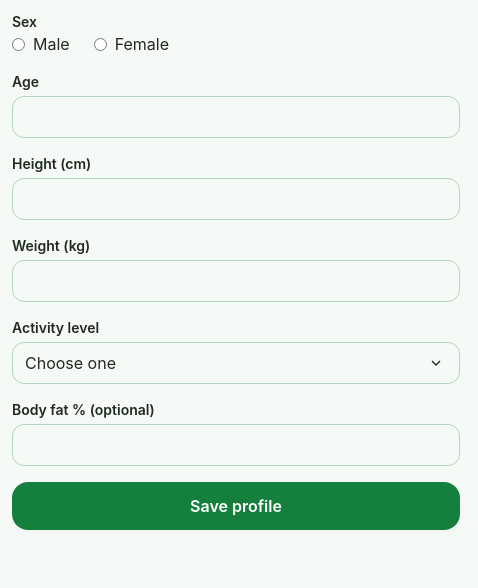
Scenario: ProfileForm › asks for age when it is left empty
Click the radio button labelled "Male". click: click(18, 44)
box: left=12, top=38, right=25, bottom=50
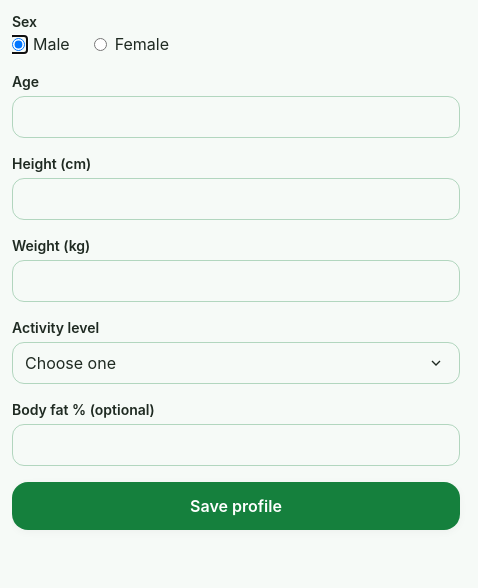
Type "30" into the number field labelled "Age". click: (236, 117)
box: left=12, top=96, right=460, bottom=138
Type "175" into the number field labelled "Height (cm)". click: (236, 199)
box: left=12, top=178, right=460, bottom=220
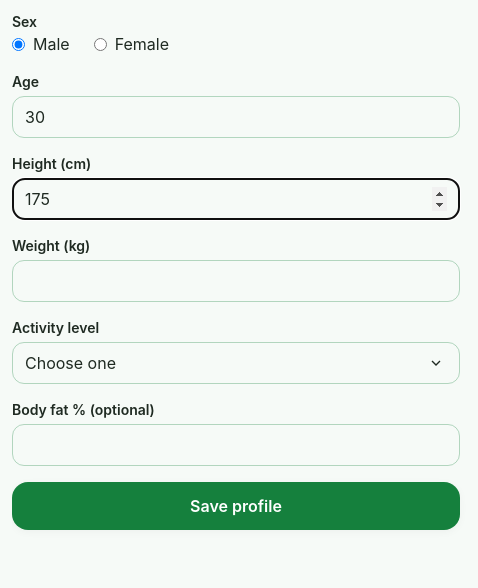
Type "80" into the number field labelled "Weight (kg)". click: (236, 281)
box: left=12, top=260, right=460, bottom=302
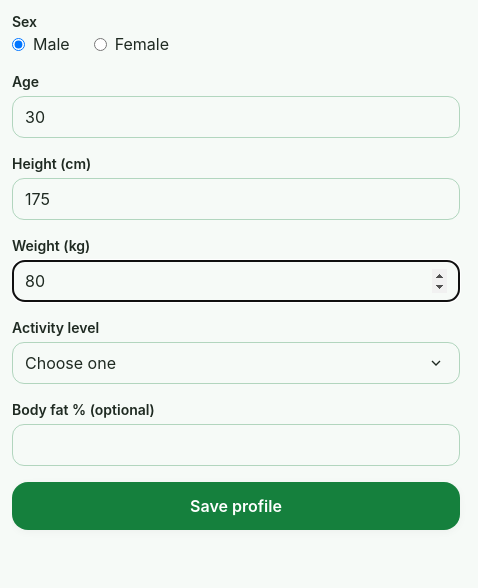
Select "Moderate" in the dropdown labelled "Activity level". click: (236, 363)
box: left=12, top=342, right=460, bottom=384
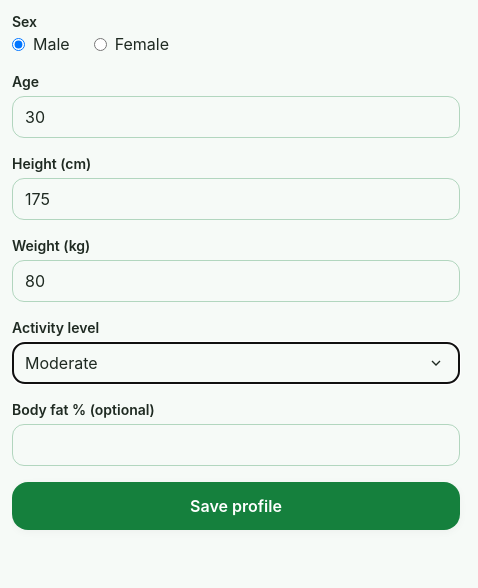
Clear the number field labelled "Age". click: (236, 117)
box: left=12, top=96, right=460, bottom=138
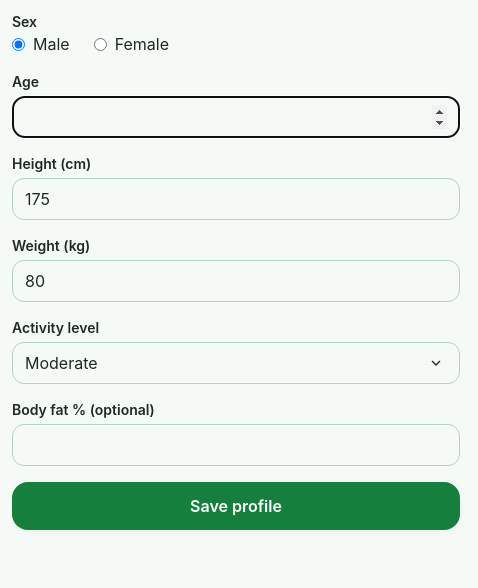
Click the button "Save profile". click: click(236, 506)
box: left=12, top=482, right=460, bottom=530
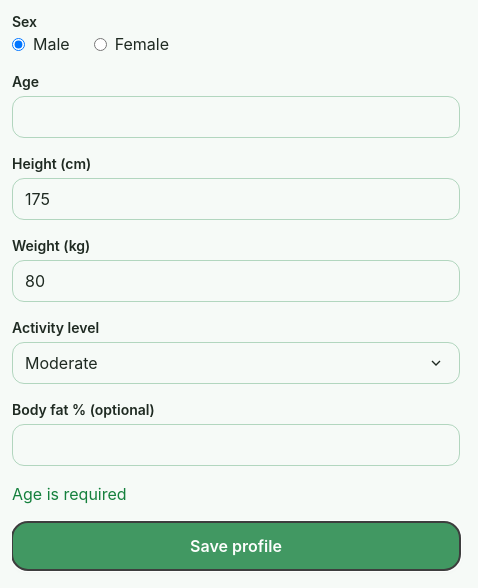
Expected: the message reads "Age is required", left=12, top=484, right=127, bottom=504
